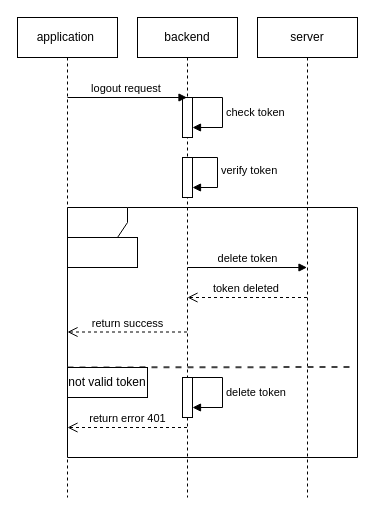
This 375x515 diagram has some shape labels left out. The centre of each missing label's shape, as x and y in pixels:
alter: point (212, 332)
valid token: point (102, 252)
